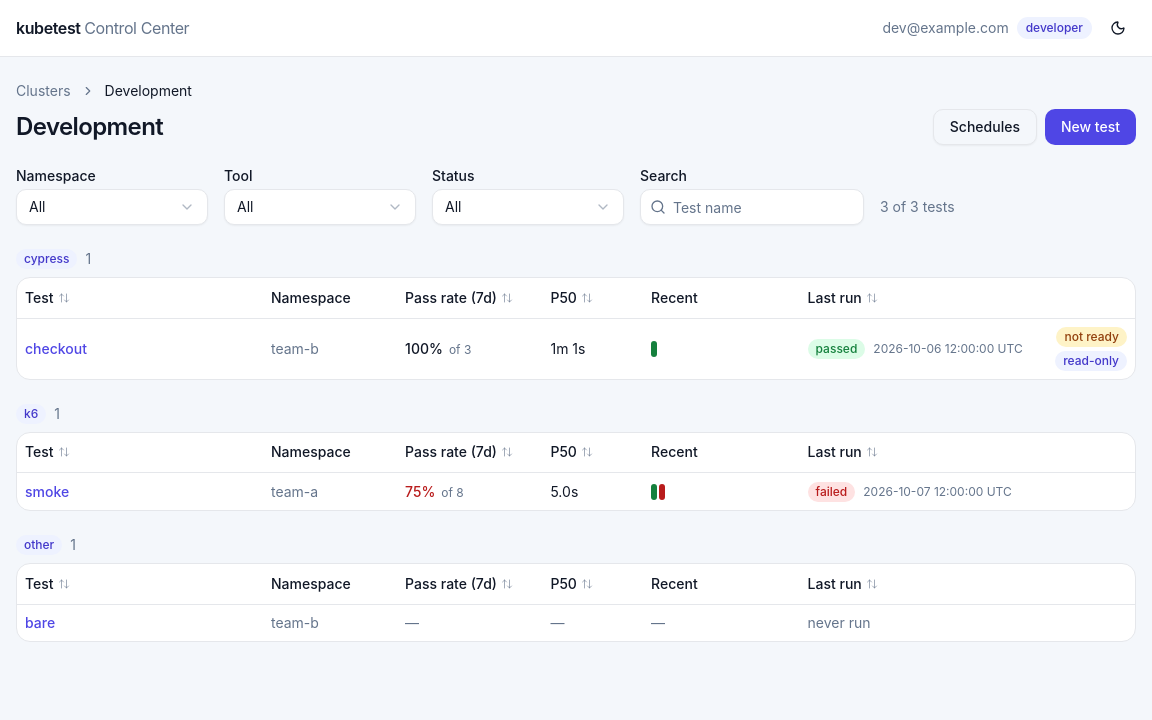
tests list › searches by name and filters by the last run's status, in the address
Check: the text "3 of 3 tests" is shown, box x1=880 y1=197 x2=954 y2=225
Type "SMO" into the search field labelled "Search" at (752, 207), box x1=640 y1=189 x2=864 y2=225
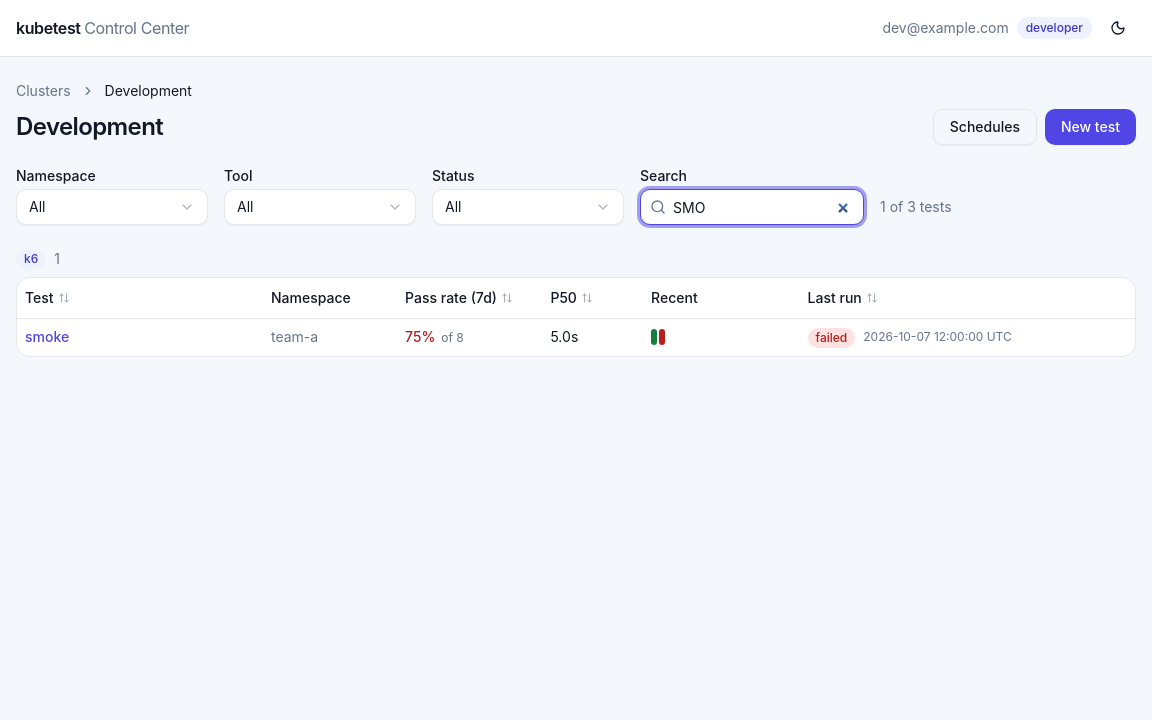
Check: the text with test id "tests-count" reads "1 of 3 tests", box x1=880 y1=197 x2=952 y2=225
Clear the search field labelled "Search" at (752, 207), box x1=640 y1=189 x2=864 y2=225
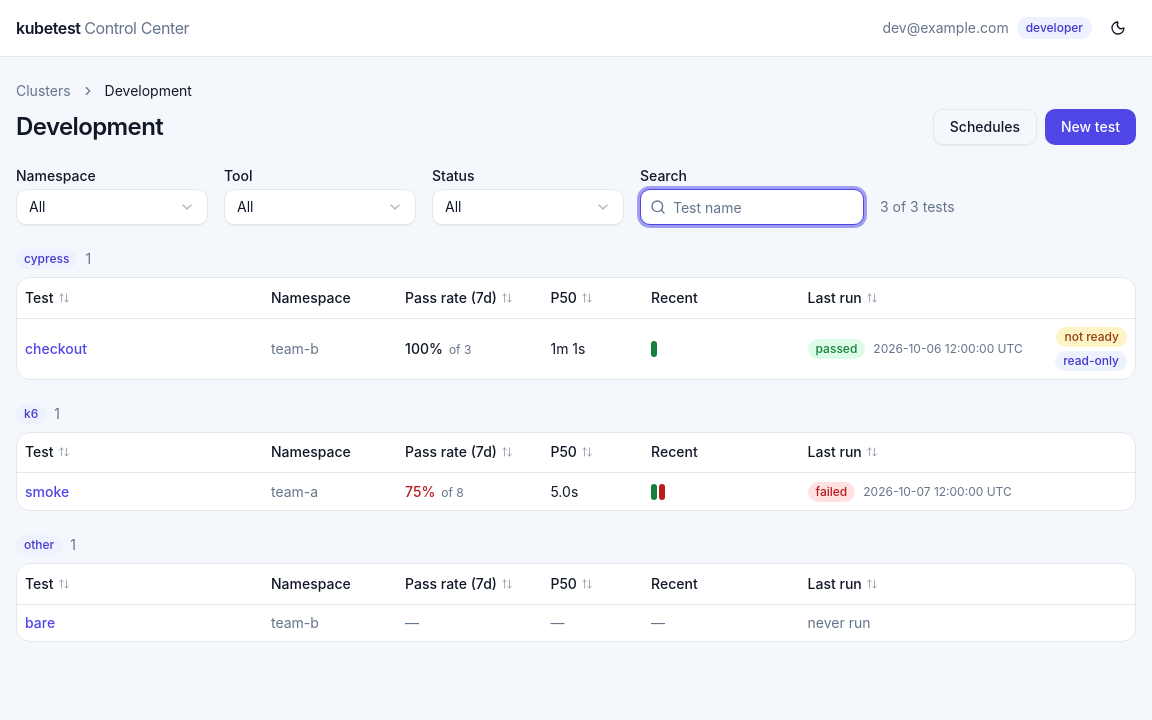
Click the dropdown named "Status" at (528, 207), box x1=432 y1=189 x2=624 y2=225
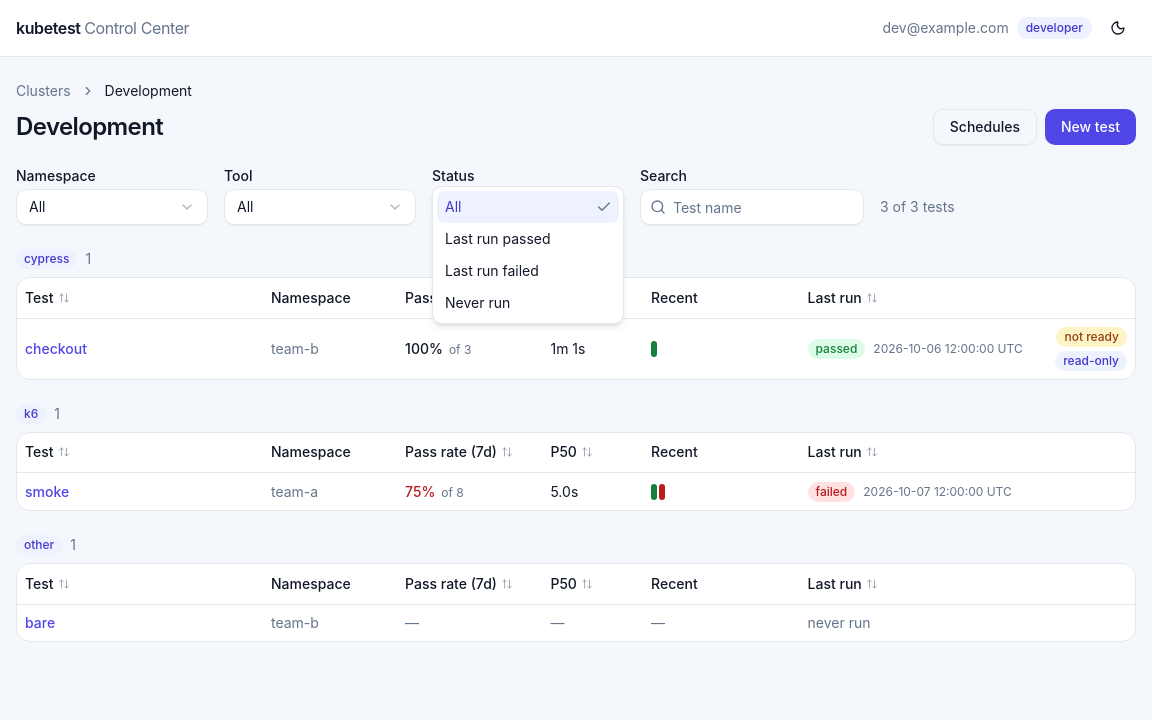
Click the option "Last run passed" at (498, 238), box x1=445 y1=230 x2=550 y2=247
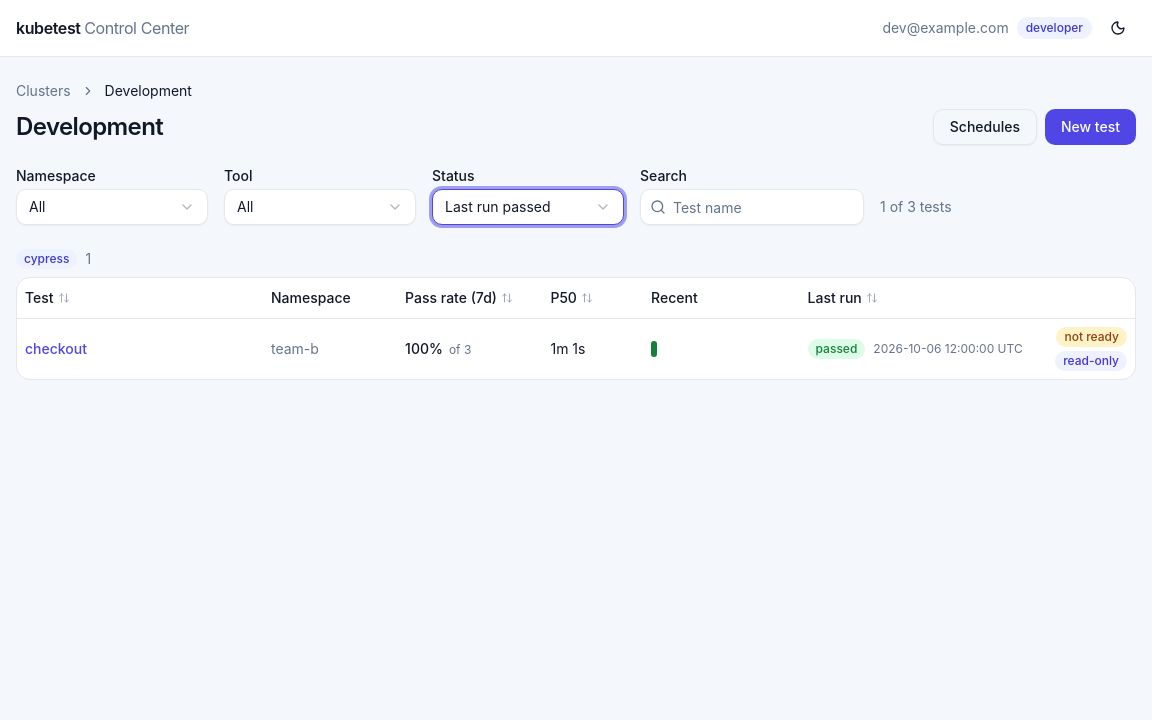
Check: the element with test id "group-cypress" is shown, box x1=16 y1=249 x2=1136 y2=380
Check: the text with test id "tests-count" reads "1 of 3 tests", box x1=880 y1=197 x2=952 y2=225
